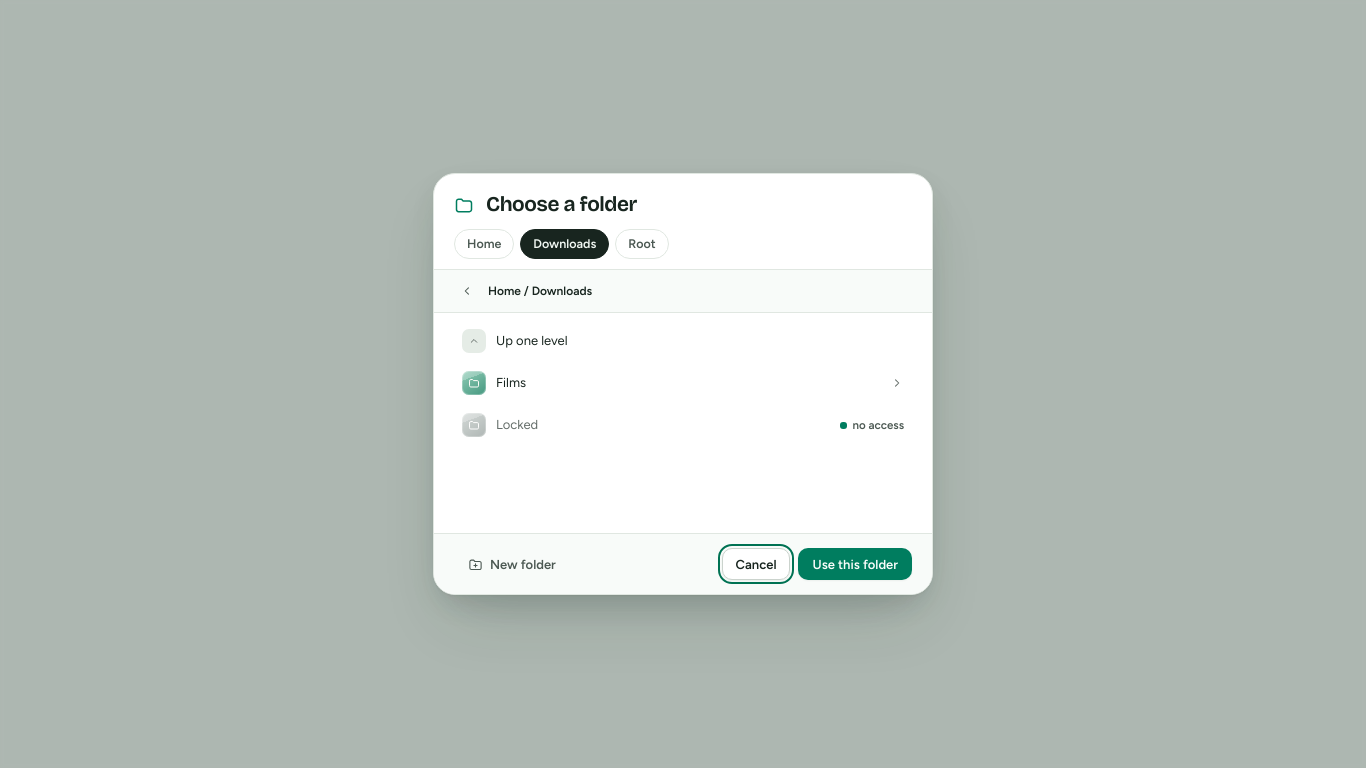
it: FolderPicker › ignores a slow answer that a newer one overtook
The image size is (1366, 768).
Click the button "Home" at (484,244), box [454,229,514,259]
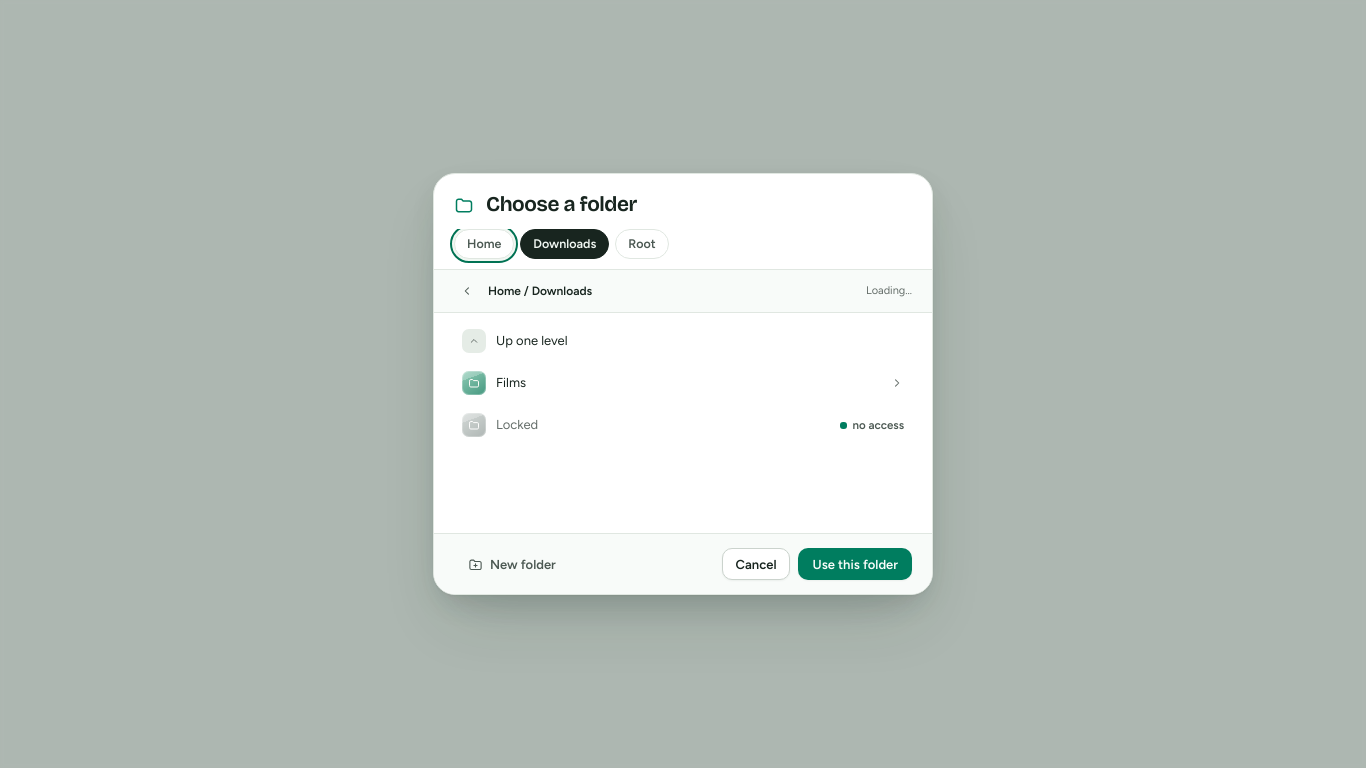
Click the button "Films" at (511,382), box [454,363,912,403]
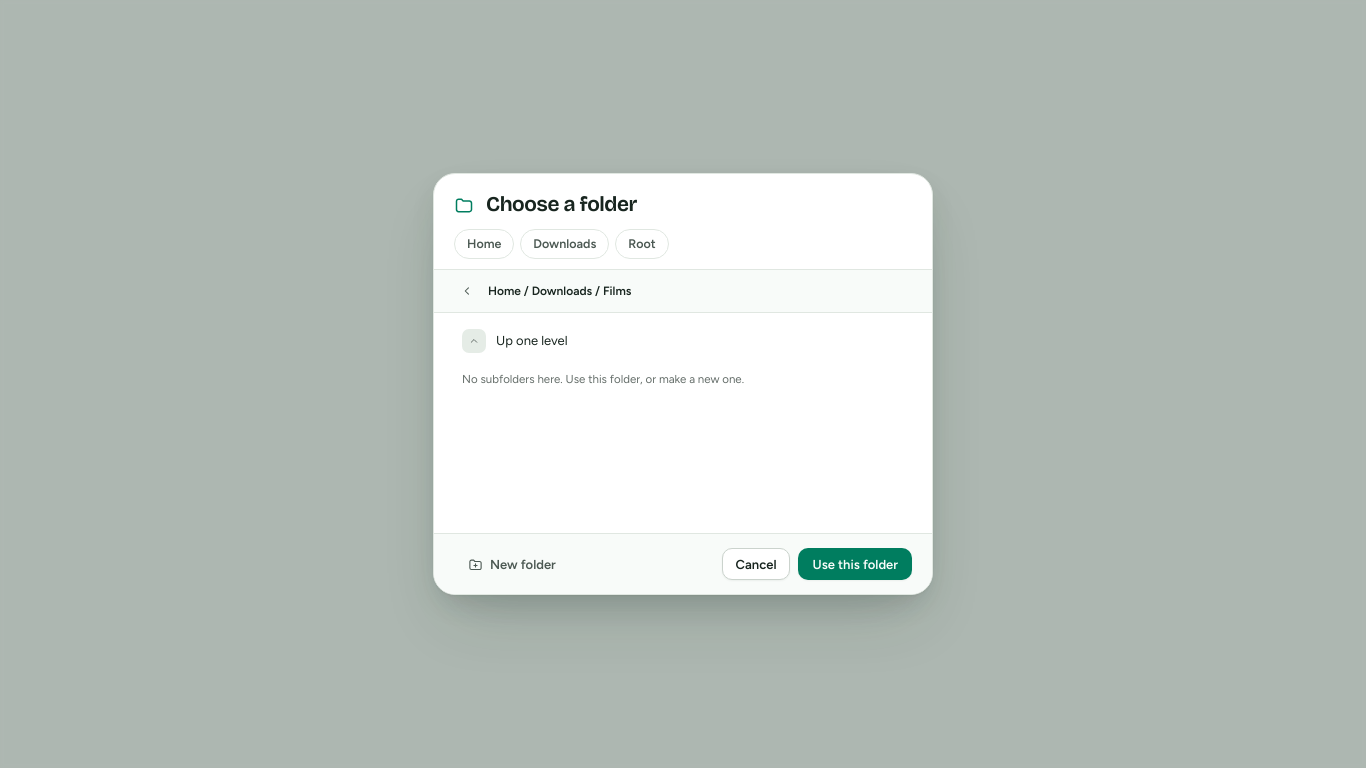
Now the text "Home / Downloads / Films" is shown, box [488,284,631,298]
